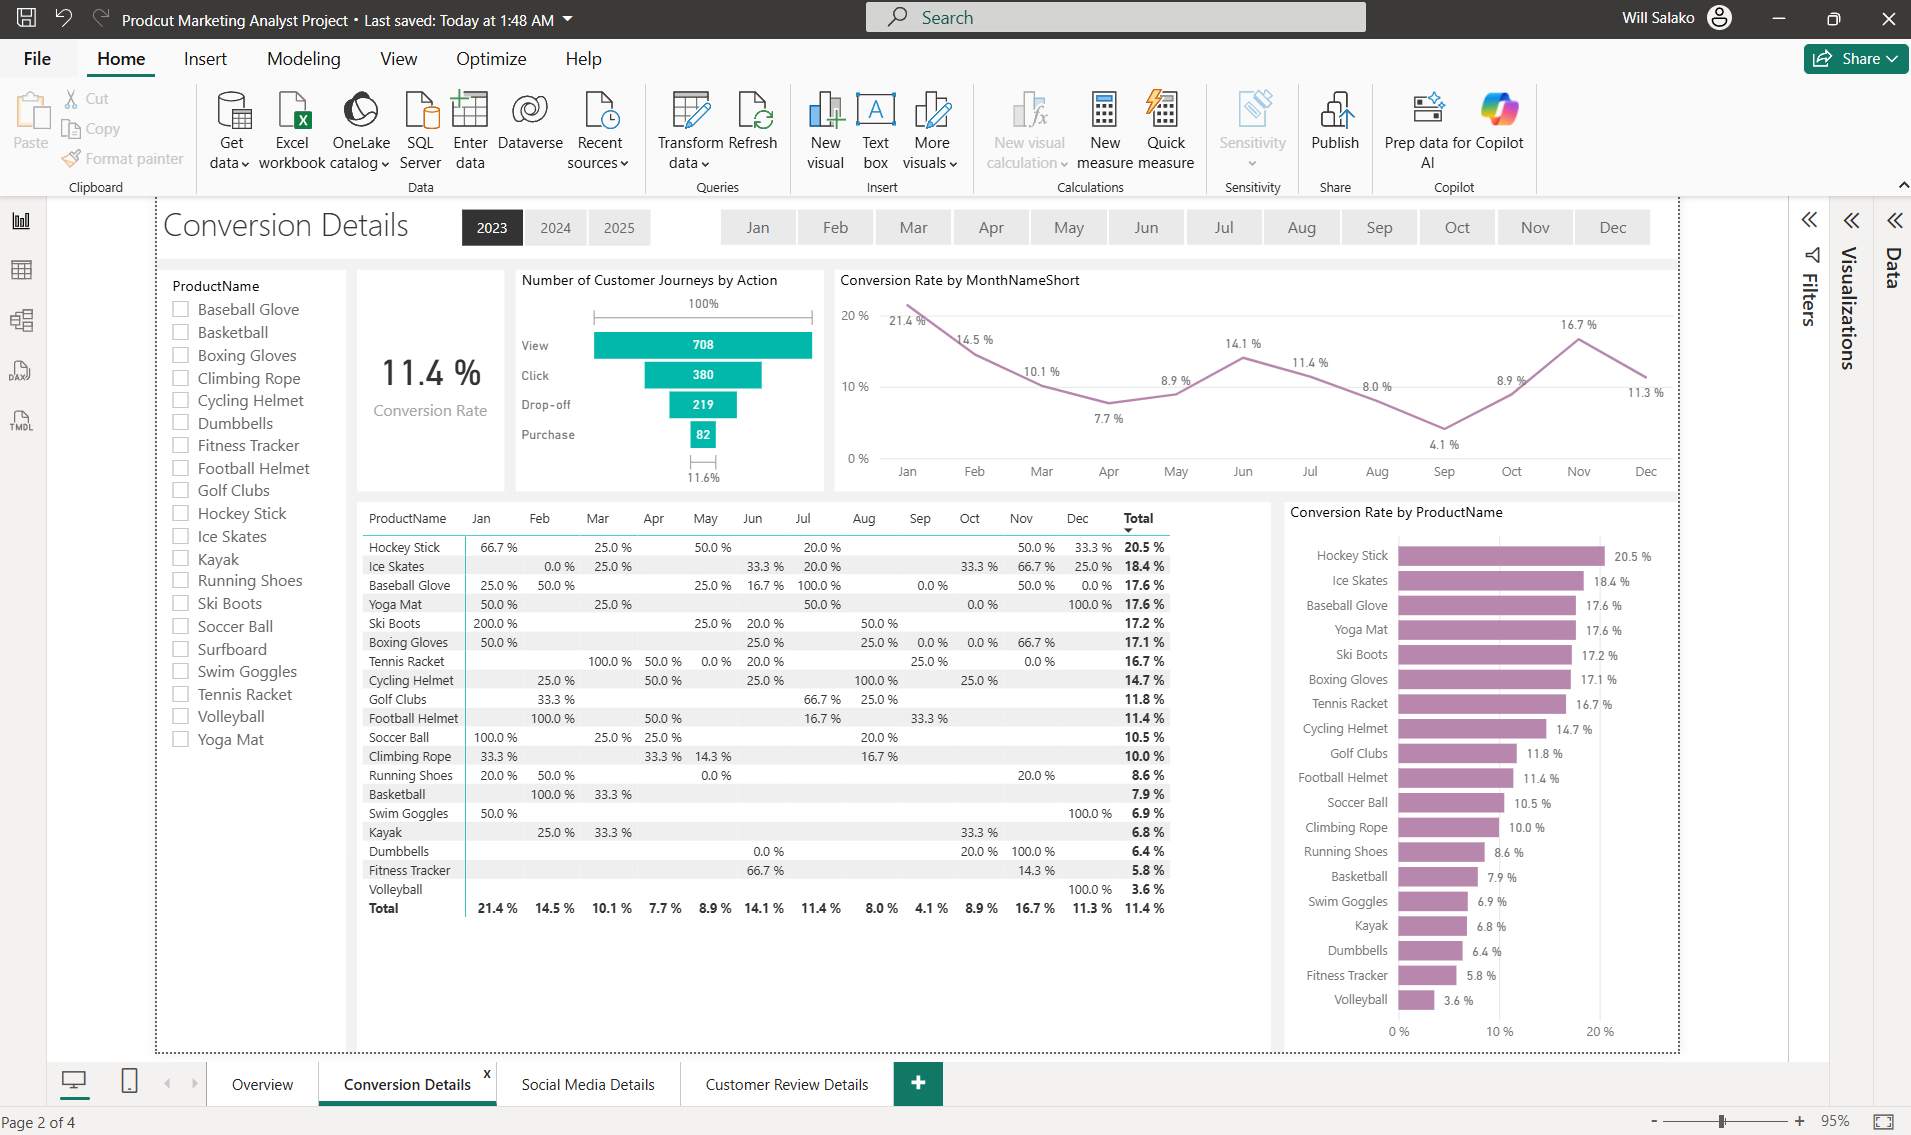

This screenshot's page, from the dashboard's own definition file:
{"tool":"powerbi","page":{"name":"Conversion Details","canvas":[1280,720],"ordinal":1},"visuals":[{"type":"textbox","box":[0,0,1280,52.6],"z":0},{"type":"slicer","fields":{"Values":["dim_products.ProductName"]},"box":[0,61.9,159.4,658.4],"z":1000},{"type":"card","fields":{"Values":["_Calculations.Conversion Rate"]},"box":[168.5,61.9,123.8,186.7],"z":2000},{"type":"lineChart","fields":{"Y":["_Calculations.Conversion Rate"],"Category":["Calendar.MonthNameShort"]},"box":[570.1,61.9,710.3,186.7],"z":3000},{"type":"clusteredBarChart","fields":{"Category":["dim_products.ProductName"],"Y":["_Calculations.Conversion Rate"]},"box":[948,257.7,332.4,462.6],"z":4000},{"type":"slicer","fields":{"Values":["Calendar.Year"]},"box":[230.2,4.1,208.5,44.4],"z":5000},{"type":"slicer","fields":{"Values":["Calendar.MonthNameShort"]},"box":[448,4.6,832.3,43.7],"z":6000},{"type":"pivotTable","fields":{"Rows":["dim_products.ProductName"],"Values":["_Calculations.Conversion Rate"],"Columns":["Calendar.MonthNameShort"]},"box":[168.5,257.7,768.6,462.6],"z":7000},{"type":"funnel","fields":{"Category":["fact_customer_journey.Action"],"Y":["_Calculations.Number of Customer Journeys"]},"box":[301.4,61.9,259.5,186.7],"z":8000}]}

Visuals, with their boxes on the page's 1280x720 design canvas (x1, y1, x2, y2). These are canvas units, not pixel positions in the 1911x1135 screenshot, which may show the page scaled, cropped or inside an application window:
textbox: 0:0:1280:53
slicer - dim_products.ProductName: 0:62:159:720
card - _Calculations.Conversion Rate: 168:62:292:249
lineChart - _Calculations.Conversion Rate x Calendar.MonthNameShort: 570:62:1280:249
clusteredBarChart - dim_products.ProductName x _Calculations.Conversion Rate: 948:258:1280:720
slicer - Calendar.Year: 230:4:439:48
slicer - Calendar.MonthNameShort: 448:5:1280:48
pivotTable - dim_products.ProductName x _Calculations.Conversion Rate: 168:258:937:720
funnel - fact_customer_journey.Action x _Calculations.Number of Customer Journeys: 301:62:561:249
